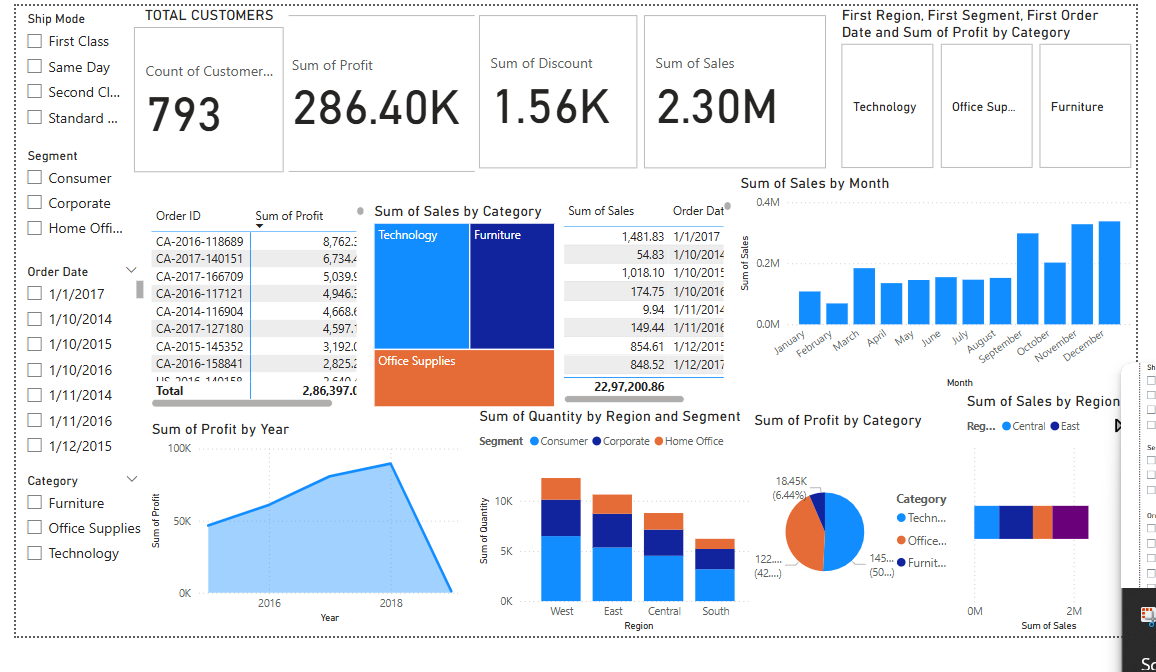

This screenshot's page, from the dashboard's own definition file:
{"tool":"powerbi","page":{"name":"Page 1","canvas":[1280,720],"ordinal":0},"visuals":[{"type":"cardVisual","fields":{"Data":["Sum(Sample - Superstore.Sales)"]},"box":[713.1,5.6,218,185.7],"z":0},{"type":"treemap","fields":{"Group":["Sample - Superstore.Category"],"Values":["Sum(Sample - Superstore.Sales)"]},"box":[403.7,223.6,216.6,239.1],"z":1000},{"type":"barChart","fields":{"Y":["Sum(Sample - Superstore.Sales)"],"Series":["Sample - Superstore.Region"]},"box":[1081.7,441.7,198.3,278.5],"z":2000},{"type":"cardVisual","fields":{"Data":["Sum(Sample - Superstore.Profit)"]},"box":[296.8,5.6,237.7,189.9],"z":3000},{"type":"advancedSlicerVisual","fields":{"Values":["Sample - Superstore.Category"]},"box":[938.2,0,341.8,191.3],"z":4000},{"type":"areaChart","fields":{"Category":["train.Ship Date.Variation.Date Hierarchy.Year"],"Y":["Sum(Sample - Superstore.Profit)"]},"box":[150.5,472.6,365.7,237.7],"z":5000},{"type":"cardVisual","title":"TOTAL CUSTOMERS","fields":{"Data":["Count(Sample - Superstore.Customer Name)"]},"box":[129.4,0,181.5,195.5],"z":6000},{"type":"cardVisual","fields":{"Data":["Sum(Sample - Superstore.Discount)"]},"box":[524.7,5.6,191.3,185.7],"z":7000},{"type":"tableEx","fields":{"Values":["Sum(Sample - Superstore.Sales)","Sample - Superstore.Order Date"]},"box":[620.3,218,202.5,240.5],"z":8000},{"type":"pivotTable","fields":{"Values":["Sum(Sample - Superstore.Profit)"],"Rows":["Sample - Superstore.Order ID"]},"box":[150.5,223.6,253.2,239.1],"z":9000},{"type":"clusteredColumnChart","fields":{"Category":["train.Ship Date.Variation.Date Hierarchy.Month"],"Y":["Sum(train.Sales)"]},"box":[822.9,191.3,457.1,250.4],"z":10000},{"type":"columnChart","fields":{"Category":["Sample - Superstore.Region"],"Y":["Sum(Sample - Superstore.Quantity)"],"Series":["Sample - Superstore.Segment"]},"box":[524.7,458.5,327.7,261.6],"z":11000},{"type":"pieChart","fields":{"Category":["Sample - Superstore.Category"],"Y":["Sum(Sample - Superstore.Profit)"]},"box":[838.3,462.8,243.3,257.4],"z":12000},{"type":"slicer","fields":{"Values":["Sample - Superstore.Ship Mode"]},"box":[0,1.4,129.4,156.1],"z":12001},{"type":"slicer","fields":{"Values":["Sample - Superstore.Segment"]},"box":[0,157.5,129.4,237.7],"z":12002},{"type":"slicer","fields":{"Values":["Sample - Superstore.Order Date"]},"box":[0,289.8,150.5,237.7],"z":12003},{"type":"slicer","fields":{"Values":["Sample - Superstore.Category"]},"box":[0,528,151,192],"z":12004}]}

Visuals, with their boxes on the page's 1280x720 design canvas (x1, y1, x2, y2). These are canvas units, not pixel positions in the 1156x672 screenshot, which may show the page scaled, cropped or inside an application window:
cardVisual - Sum(Sample - Superstore.Sales): crop(713, 6, 931, 191)
treemap - Sample - Superstore.Category x Sum(Sample - Superstore.Sales): crop(404, 224, 620, 463)
barChart - Sum(Sample - Superstore.Sales) x Sample - Superstore.Region: crop(1082, 442, 1280, 720)
cardVisual - Sum(Sample - Superstore.Profit): crop(297, 6, 534, 196)
advancedSlicerVisual - Sample - Superstore.Category: crop(938, 0, 1280, 191)
areaChart - train.Ship Date.Variation.Date Hierarchy.Year x Sum(Sample - Superstore.Profit): crop(150, 473, 516, 710)
"TOTAL CUSTOMERS" cardVisual: crop(129, 0, 311, 196)
cardVisual - Sum(Sample - Superstore.Discount): crop(525, 6, 716, 191)
tableEx - Sum(Sample - Superstore.Sales) x Sample - Superstore.Order Date: crop(620, 218, 823, 458)
pivotTable - Sum(Sample - Superstore.Profit) x Sample - Superstore.Order ID: crop(150, 224, 404, 463)
clusteredColumnChart - train.Ship Date.Variation.Date Hierarchy.Month x Sum(train.Sales): crop(823, 191, 1280, 442)
columnChart - Sample - Superstore.Region x Sum(Sample - Superstore.Quantity): crop(525, 458, 852, 720)
pieChart - Sample - Superstore.Category x Sum(Sample - Superstore.Profit): crop(838, 463, 1082, 720)
slicer - Sample - Superstore.Ship Mode: crop(0, 1, 129, 158)
slicer - Sample - Superstore.Segment: crop(0, 158, 129, 395)
slicer - Sample - Superstore.Order Date: crop(0, 290, 150, 528)
slicer - Sample - Superstore.Category: crop(0, 528, 151, 720)
